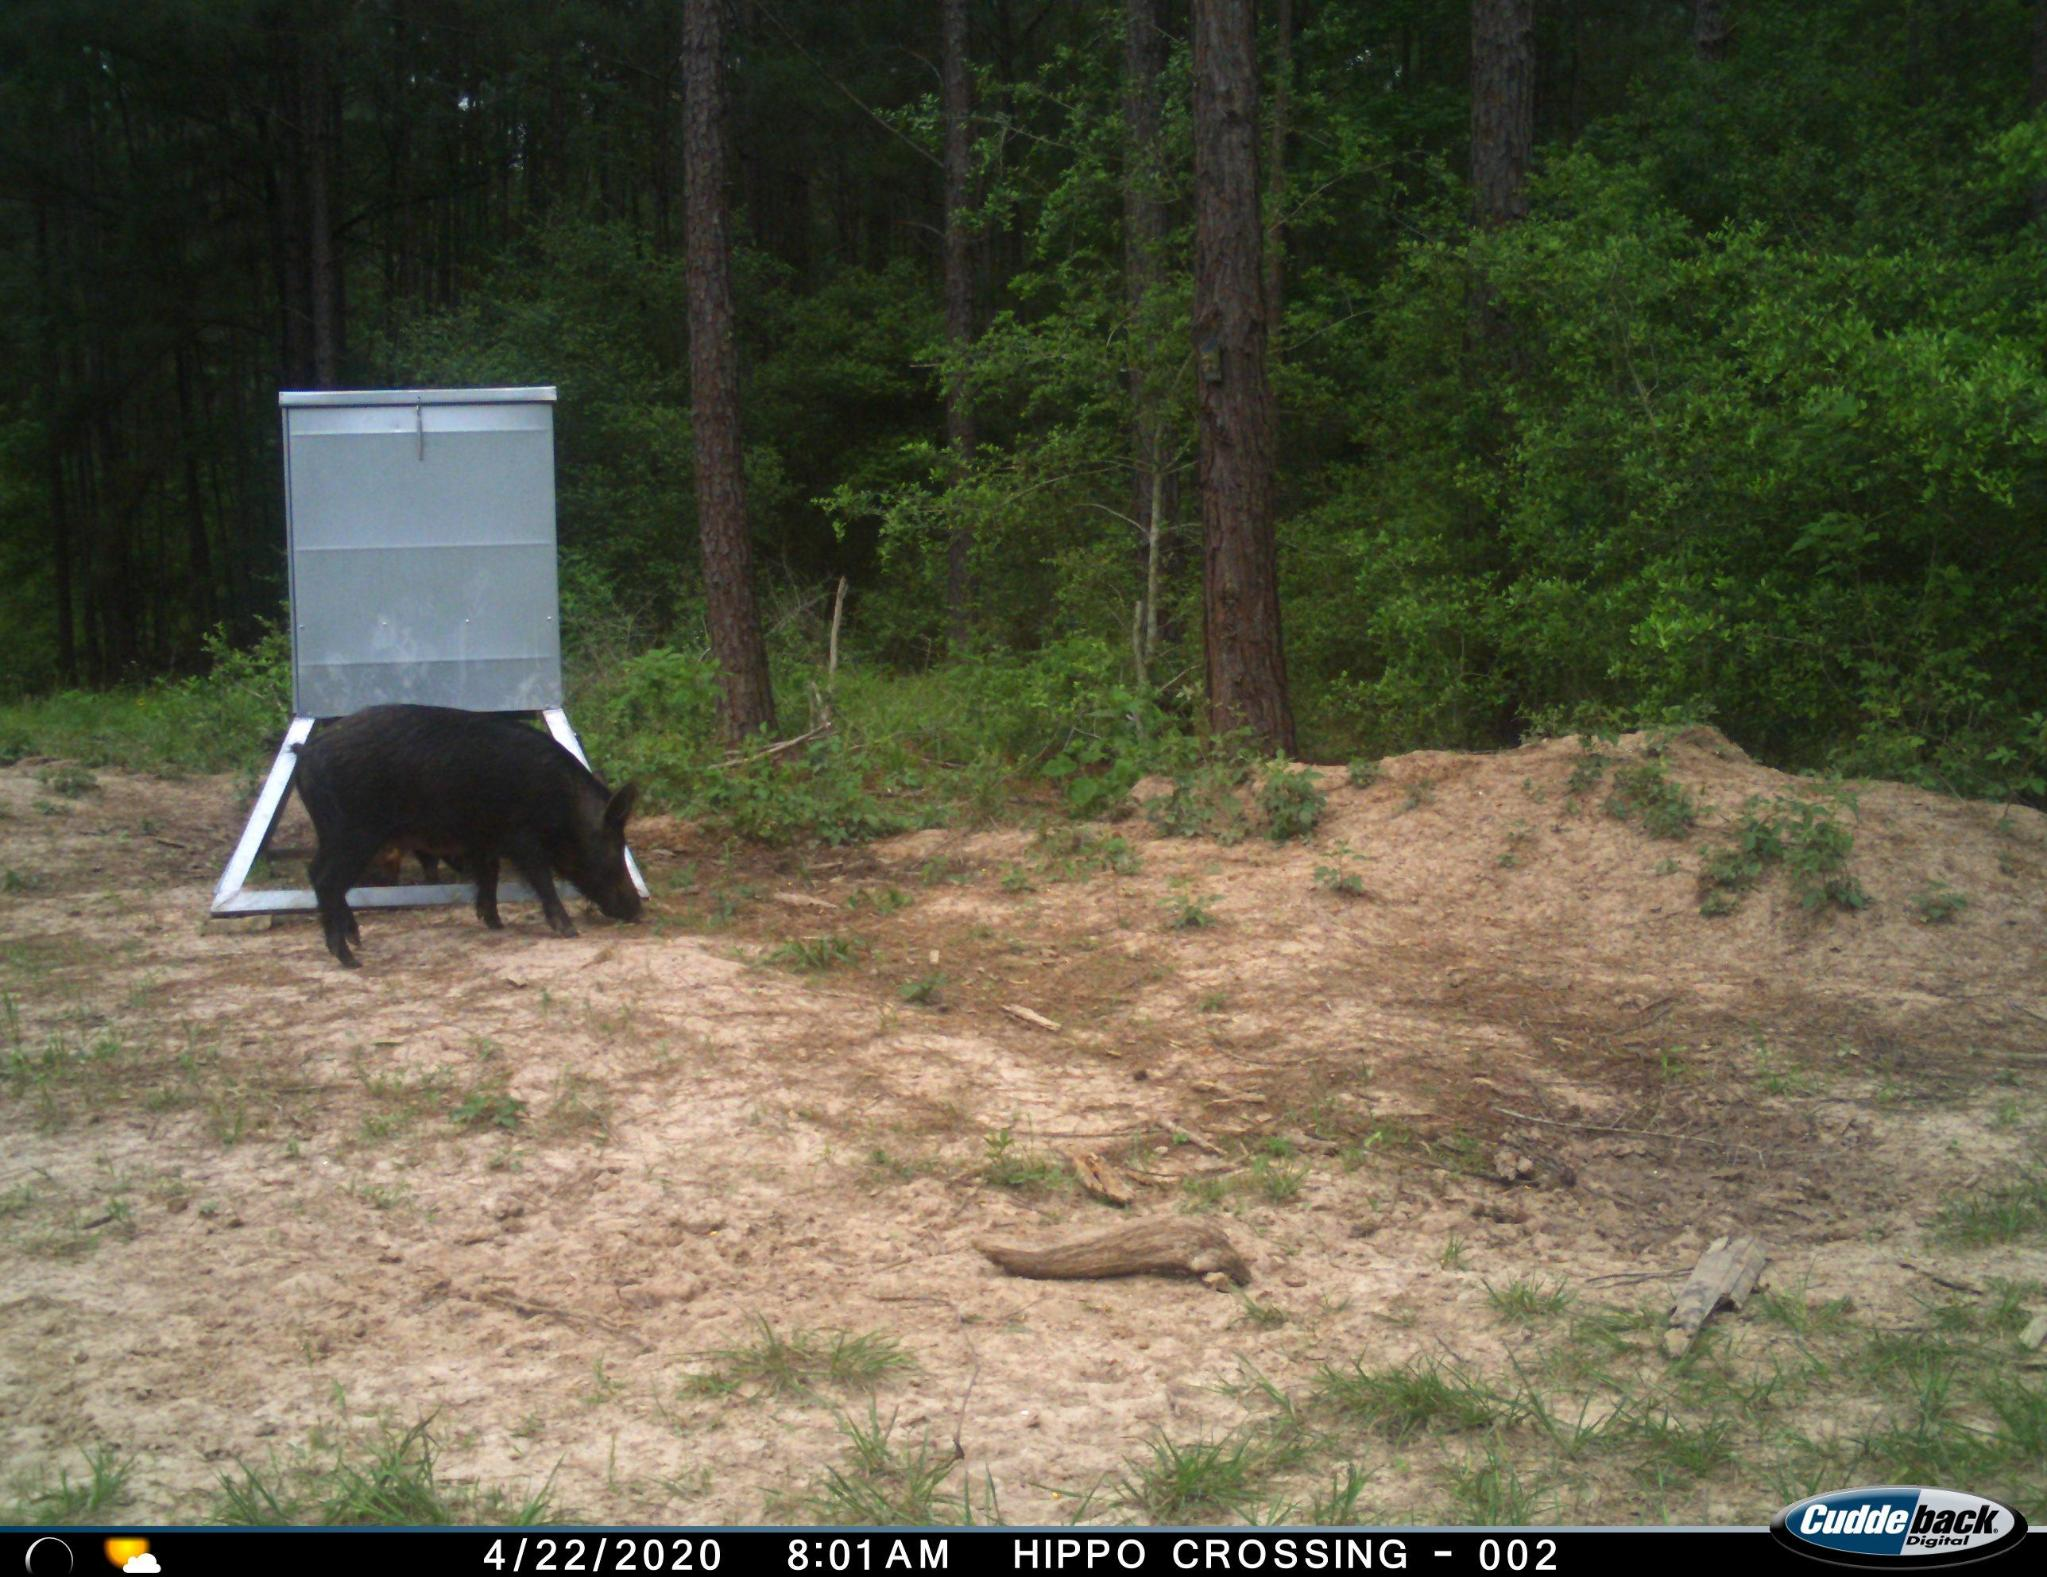Hog: (275, 699, 667, 982)
